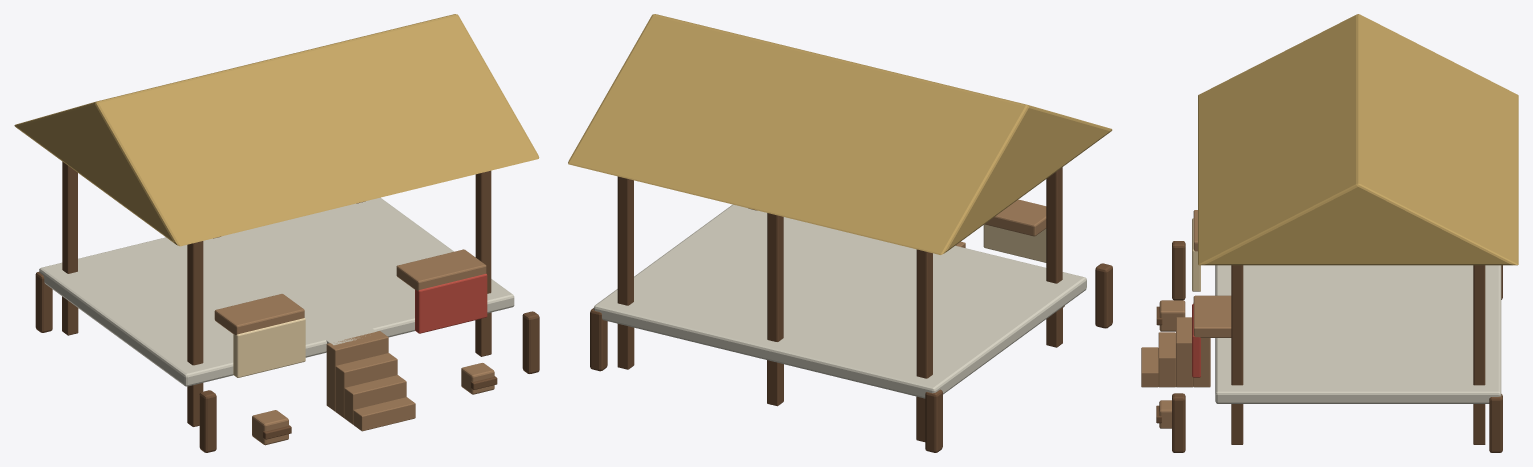
Rendered from wetland-market-0.glb.
The picture shows the model from 3 angles, left to right: view 1: azimuth 30°, elevation 25°; view 2: azimuth 150°, elevation 25°; view 3: azimuth 270°, elevation 25°; orthographic projection. The views are drawn at different scales.
Parts seen in each view (by area): view 1: Golden thatch, Cut limestone, Aged oak, Dark beams, Market red cloth, Market cream cloth; view 2: Golden thatch, Cut limestone, Dark beams, Market cream cloth, Aged oak; view 3: Golden thatch, Cut limestone, Dark beams, Aged oak, Market red cloth, Market cream cloth.
Boxes of the visible parts, bbox=[...] form: Golden thatch: bbox=[14, 14, 539, 246]; Cut limestone: bbox=[39, 197, 514, 386]; Aged oak: bbox=[214, 249, 494, 445]; Dark beams: bbox=[35, 161, 539, 452]; Market red cloth: bbox=[415, 273, 487, 333]; Market cream cloth: bbox=[233, 318, 305, 377]; Golden thatch: bbox=[568, 14, 1112, 254]; Cut limestone: bbox=[593, 204, 1086, 398]; Dark beams: bbox=[590, 167, 1112, 452]; Market cream cloth: bbox=[983, 224, 1046, 262]; Aged oak: bbox=[956, 199, 1064, 307]; Golden thatch: bbox=[1198, 14, 1518, 265]; Cut limestone: bbox=[1215, 265, 1501, 403]; Dark beams: bbox=[1156, 241, 1502, 452]; Aged oak: bbox=[1141, 210, 1231, 428]; Market red cloth: bbox=[1192, 304, 1200, 377]; Market cream cloth: bbox=[1192, 218, 1200, 291].
Size of the model in its own units: 5.4 by 4.05 by 5.02.
